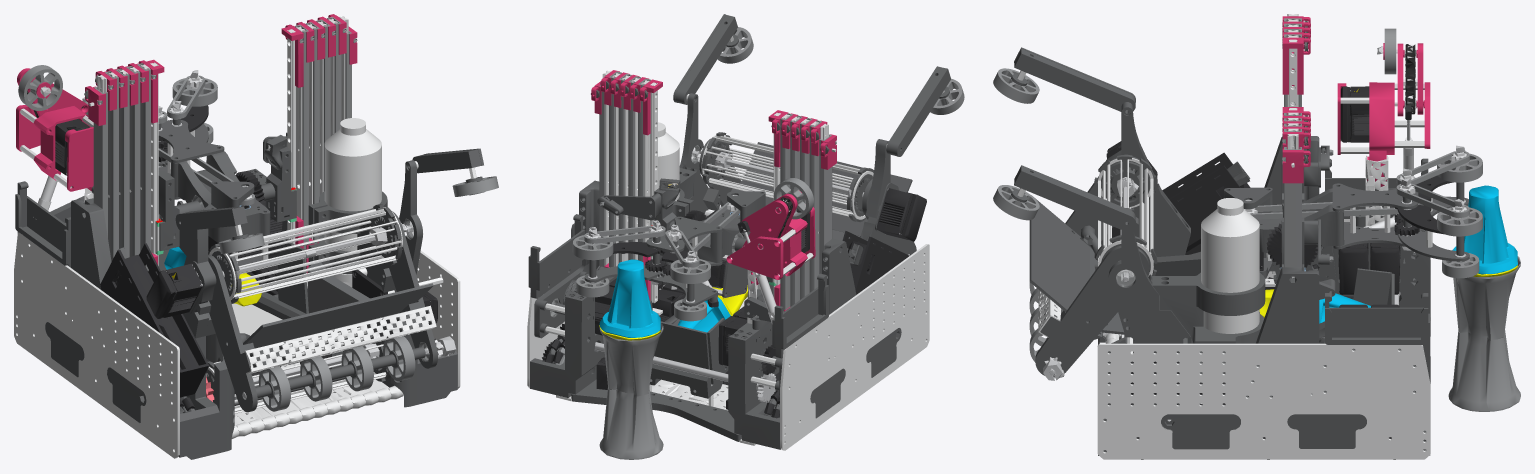
The model's file is vex_b.glb.
The picture shows the model from 3 angles, left to right: view 1: azimuth 30°, elevation 25°; view 2: azimuth 150°, elevation 25°; view 3: azimuth 270°, elevation 25°; orthographic projection. The views are drawn at different scales.
Parts seen in each view (by area): view 1: Left Sideplate.001, outslide.002, tank, outslide.001, 1 x 2 x 1 xâââ ââââ19âââ ââââAluminum C-Channel (276-2289), Part 4.008, Battery Mount, Part 6.003, Part 85, inslide, Part 54-Mirrored, Part 18.002 (+56 smaller); view 2: Left Sideplate.001, Cup, Part 48-Mirrored, Part 48.001, outslide.001, outslide.002, 276-9250-001_PMS 299c (Bright Blue).001, Intake Back Stop, inslide, Part 18.002, Aligner, Part 54.001 (+57 smaller); view 3: Left Sideplate, Cup, tank, Part 3.007, Part 19.001, Part 4.008, Part 18.001, Left Intake Print Upper, Part 54.001, Battery Mount, 276-9250-001_PMS 299c (Bright Blue).001, Part 19.004 (+41 smaller).
Part boxes in pixels (x1=…): Left Sideplate.001: x1=14, y1=232, x2=179, y2=458; outslide.002: x1=105, y1=63, x2=150, y2=271; tank: x1=324, y1=118, x2=381, y2=287; outslide.001: x1=294, y1=17, x2=341, y2=272; 1 x 2 x 1 xâââ ââââ19âââ ââââAluminum C-Channel (276-2289): x1=241, y1=305, x2=436, y2=373; Part 4.008: x1=243, y1=283, x2=433, y2=348; Battery Mount: x1=100, y1=243, x2=209, y2=397; Part 6.003: x1=208, y1=254, x2=290, y2=412; Part 85: x1=170, y1=151, x2=270, y2=242; inslide: x1=296, y1=16, x2=348, y2=239; Part 54-Mirrored: x1=71, y1=198, x2=111, y2=289; Part 18.002: x1=15, y1=181, x2=70, y2=267; Left Sideplate.001: x1=780, y1=244, x2=929, y2=450; Cup: x1=599, y1=323, x2=663, y2=459; Part 48-Mirrored: x1=728, y1=311, x2=783, y2=449; Part 48.001: x1=530, y1=267, x2=616, y2=397; outslide.001: x1=609, y1=71, x2=650, y2=267; outslide.002: x1=780, y1=113, x2=822, y2=309; 276-9250-001_PMS 299c (Bright Blue).001: x1=599, y1=259, x2=660, y2=337; Intake Back Stop: x1=649, y1=321, x2=711, y2=398; inslide: x1=602, y1=70, x2=649, y2=266; Part 18.002: x1=772, y1=273, x2=828, y2=358; Aligner: x1=571, y1=379, x2=741, y2=441; Part 54.001: x1=534, y1=180, x2=599, y2=338; Left Sideplate: x1=1097, y1=343, x2=1430, y2=459; Cup: x1=1448, y1=256, x2=1520, y2=411; tank: x1=1201, y1=198, x2=1259, y2=333; Part 3.007: x1=1035, y1=245, x2=1149, y2=377; Part 19.001: x1=1152, y1=272, x2=1265, y2=373; Part 4.008: x1=1029, y1=195, x2=1089, y2=311; Part 18.001: x1=1325, y1=293, x2=1428, y2=354; Left Intake Print Upper: x1=1108, y1=208, x2=1190, y2=337; Part 54.001: x1=1246, y1=267, x2=1415, y2=397; Battery Mount: x1=1101, y1=152, x2=1250, y2=254; 276-9250-001_PMS 299c (Bright Blue).001: x1=1452, y1=185, x2=1517, y2=274; Part 19.004: x1=1014, y1=49, x2=1135, y2=111.
Bounding box in the file's own units: 0.3847 × 0.3939 × 0.5844.
